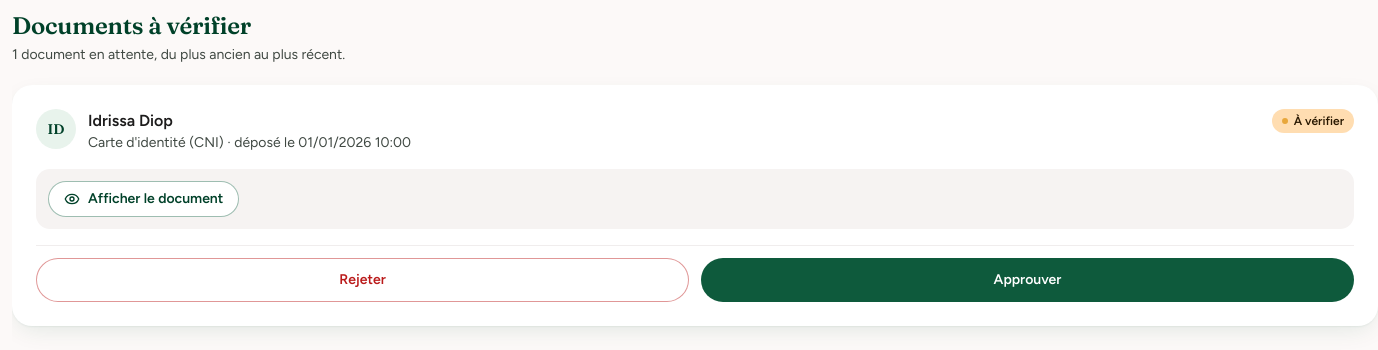
Test: AdminVerificationQueueScreen › approves the document and removes it from the queue
Click the button "Approuver": (1028, 280) [701, 258, 1354, 302]
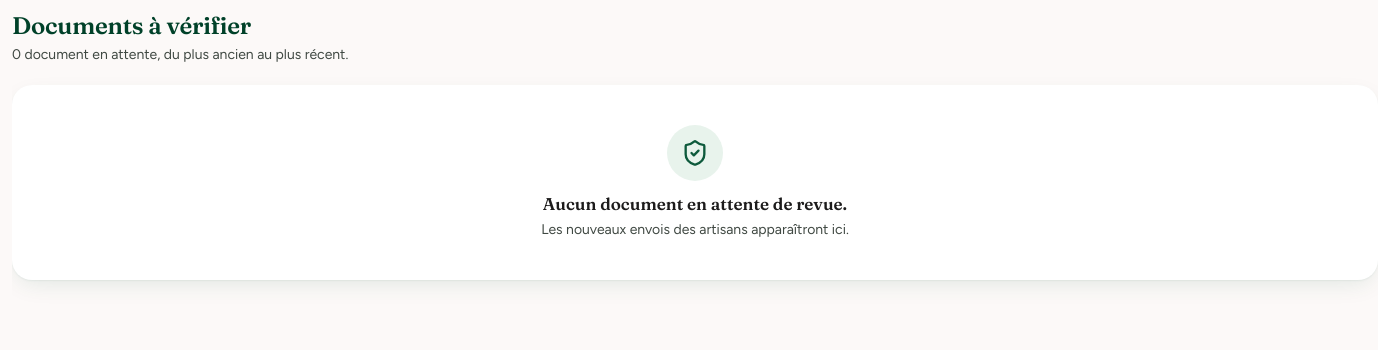
Expected: the text "Idrissa Diop" is gone
